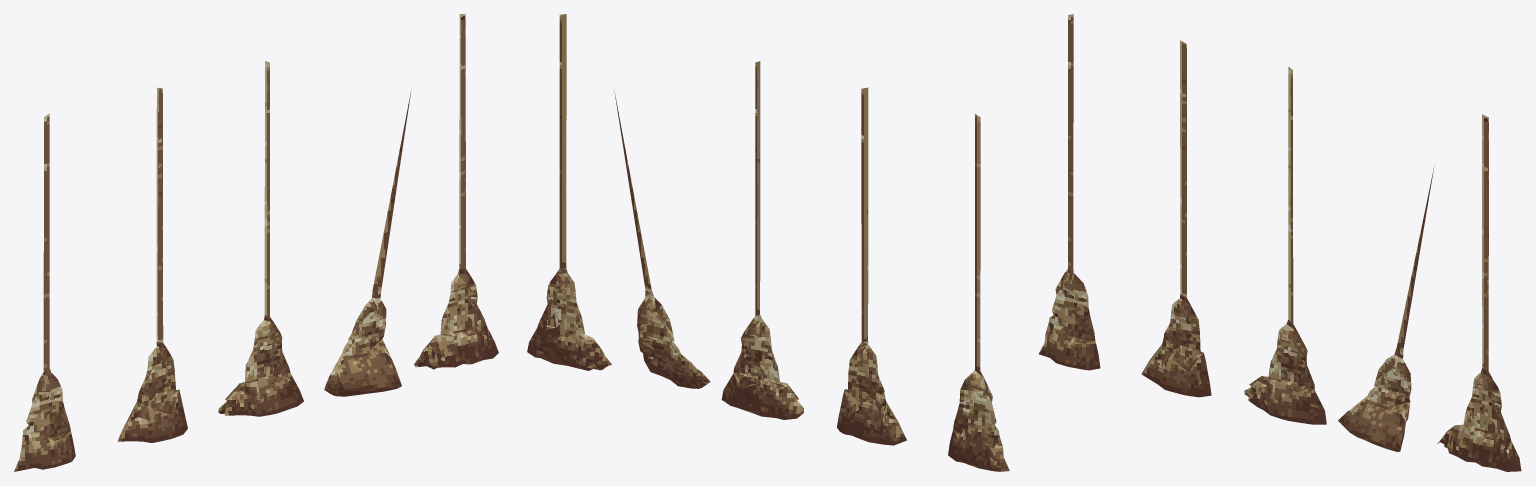
File: broom.glb
3 renders of one model, left to right at view 1: azimuth 30°, elevation 25°; view 2: azimuth 150°, elevation 25°; view 3: azimuth 330°, elevation 25°, orthographic.
Parts seen in each view (by area): view 1: model_m; view 2: model_m; view 3: model_m.
Part boxes in pixels (x1,y1,x2,y2): model_m: (14,14,498,471); model_m: (527,14,1009,471); model_m: (1039,14,1521,471).
Size of the model in its own units: 24.03 by 16.66 by 1.87.
Materials: 1 (1 with a texture image).
